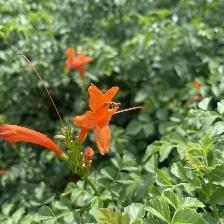honeysuckle: (74, 81, 125, 155)
